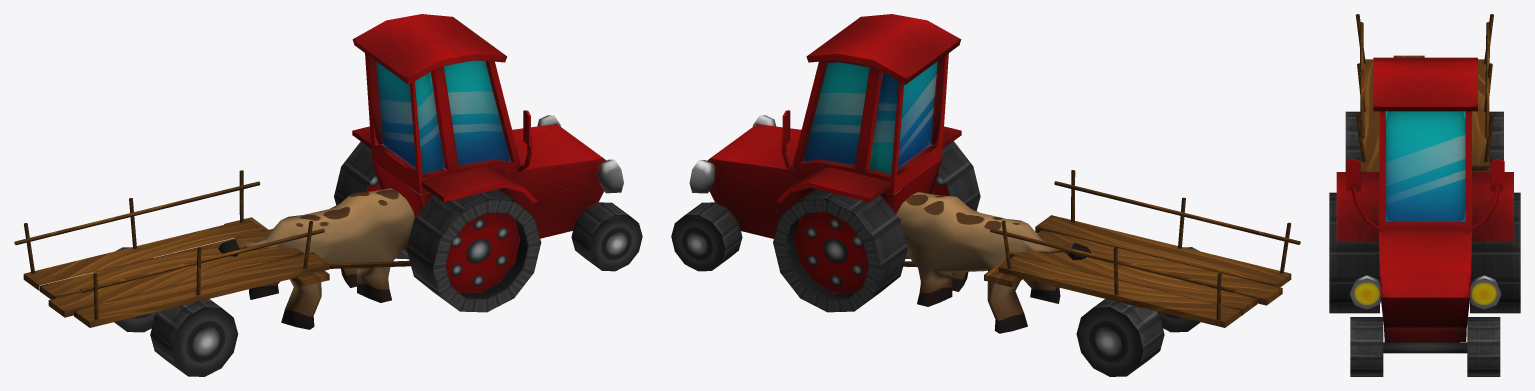
The model's file is Models.fbx.
3 views of the same model, side by side, from view 1: azimuth 30°, elevation 25°; view 2: azimuth 150°, elevation 25°; view 3: azimuth 270°, elevation 25° (orthographic). The views are drawn at different scales.
Parts seen in each view (by area): view 1: Traktor, Baran; view 2: Traktor, Baran; view 3: Traktor.
Part boxes in pixels (x1,y1,x2,y2): Traktor: (14, 14, 642, 376); Baran: (218, 185, 429, 329); Traktor: (671, 14, 1300, 376); Baran: (894, 189, 1090, 333); Traktor: (1329, 14, 1520, 376).
Size of what is drawn, in the model's own units: 992 by 419 by 306.
